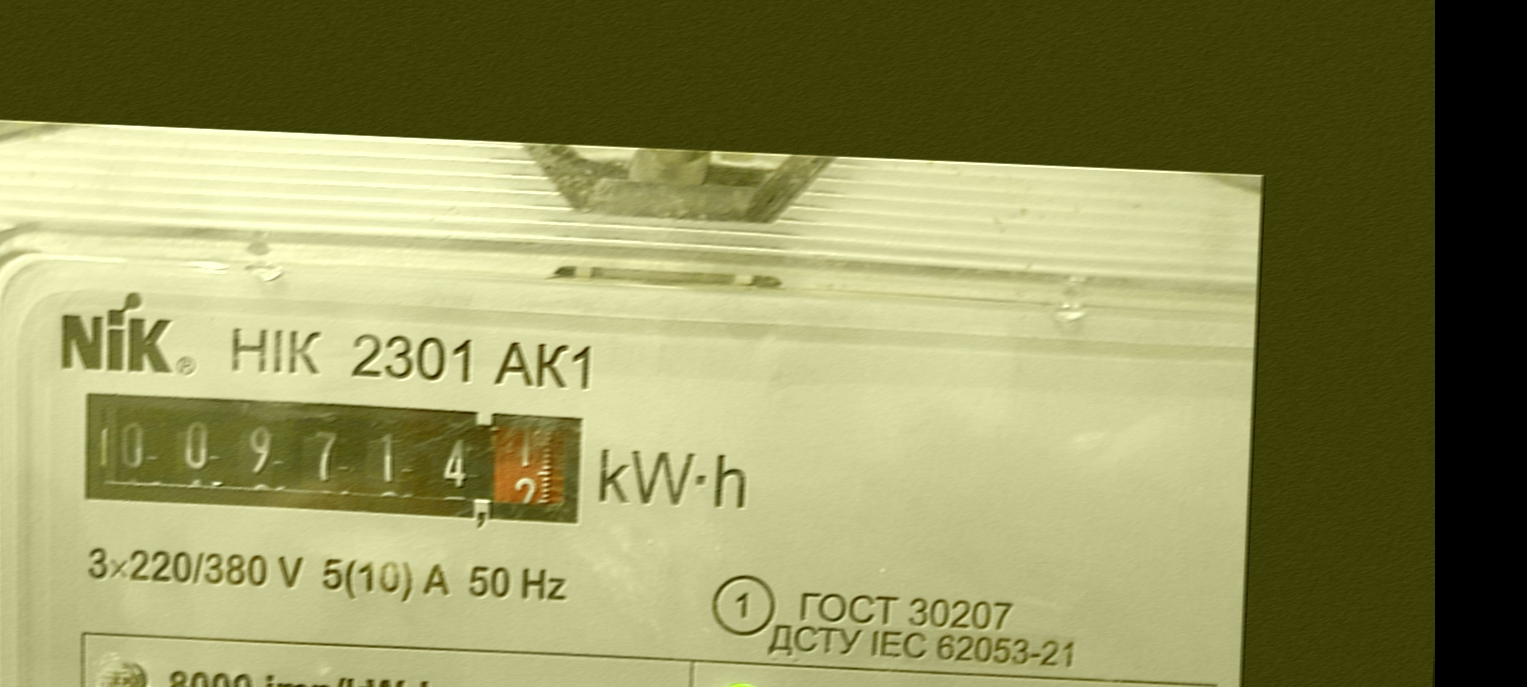0: (117, 417, 148, 472), (182, 417, 210, 471)
1: (375, 428, 400, 484), (517, 425, 533, 468)
2: (513, 473, 538, 505)
4: (440, 435, 470, 490)
7: (311, 428, 339, 483)
9: (244, 422, 274, 476)
screen: (66, 377, 600, 542)
